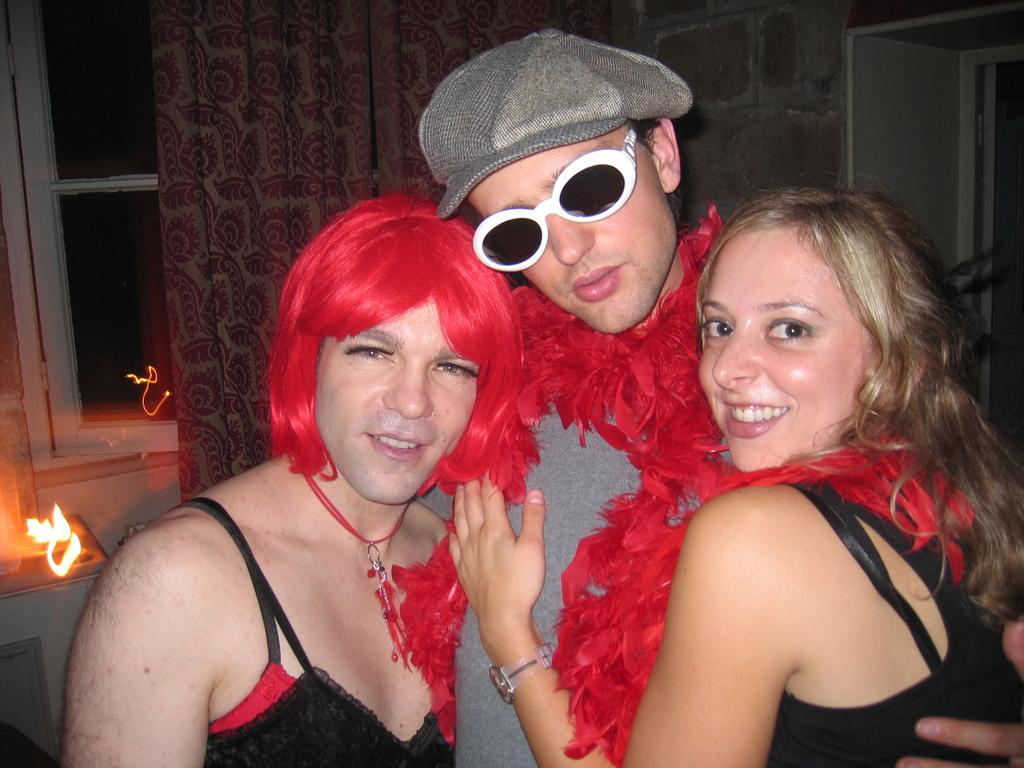Hat: (414, 29, 692, 220)
